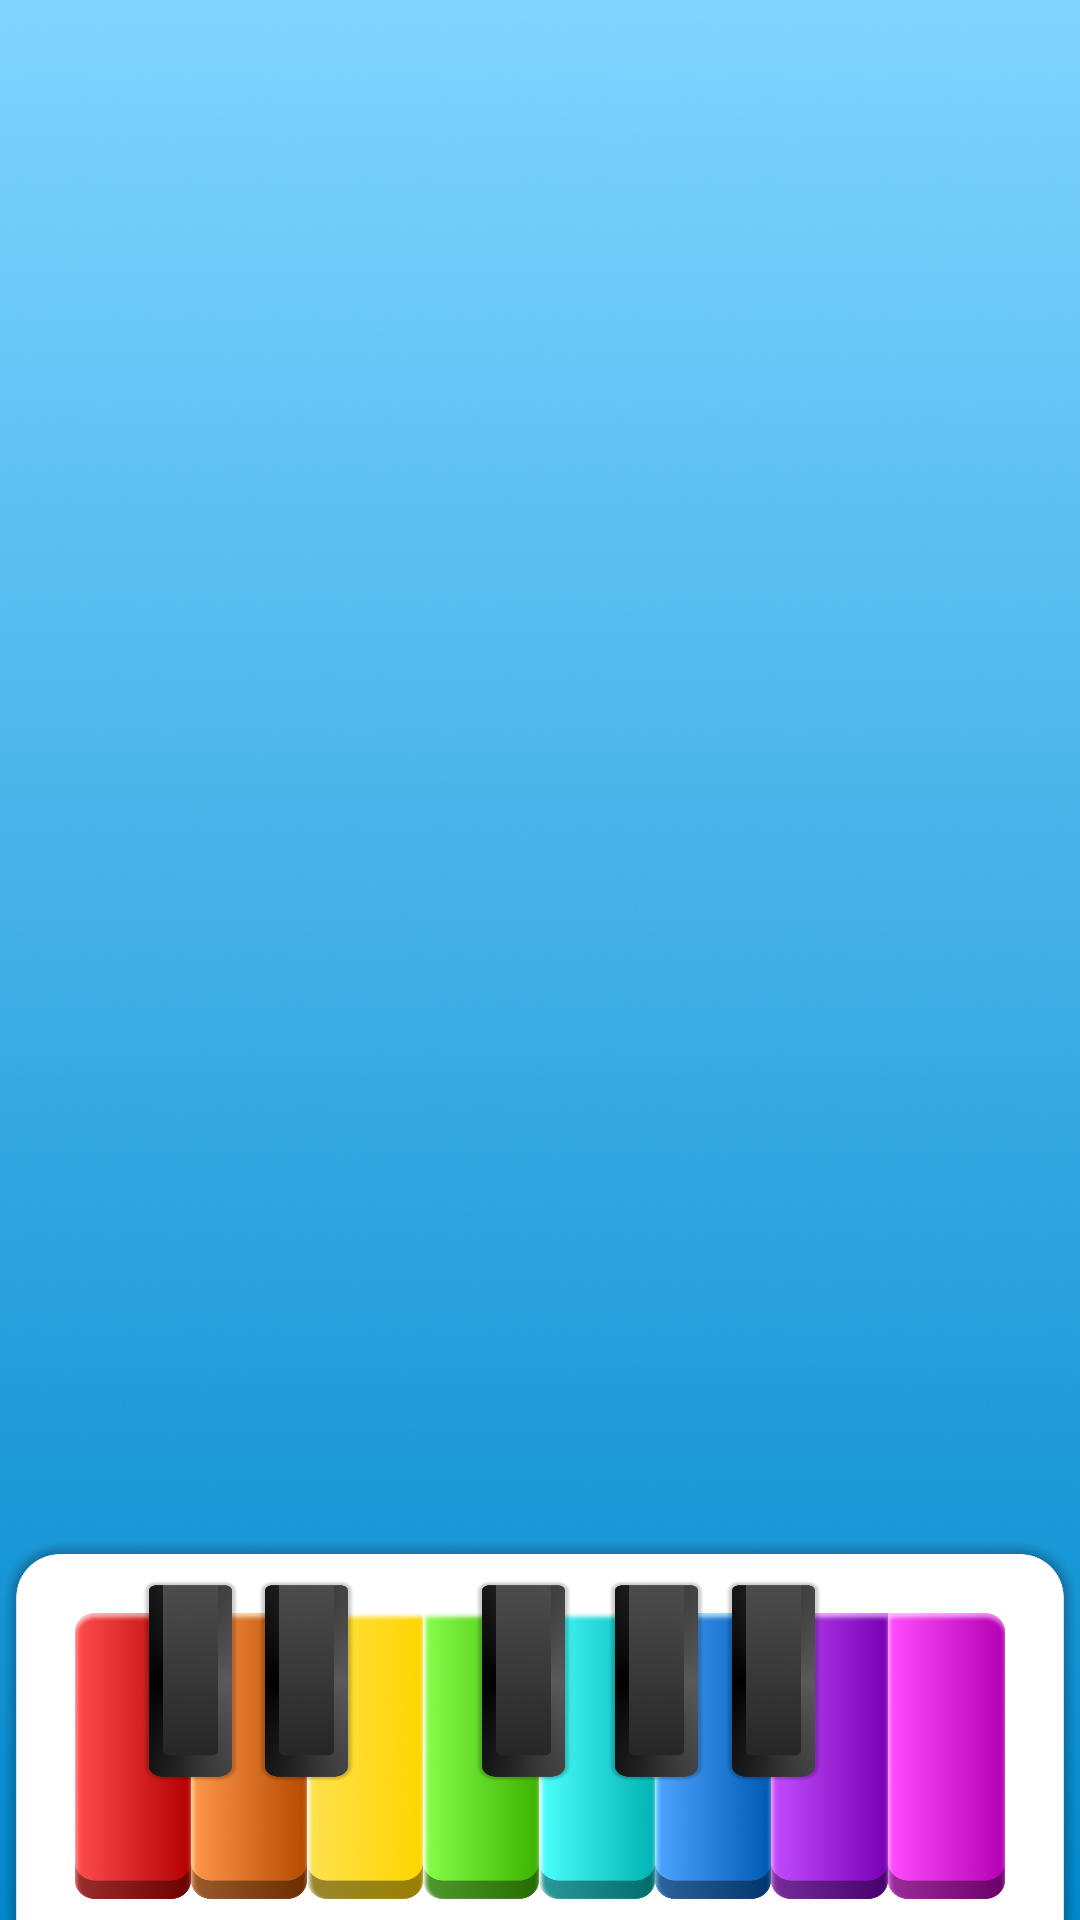

Named icons in this screenshot (1080 × 1920) and their centers, [x,y]:
mi piano: [365,1756]
